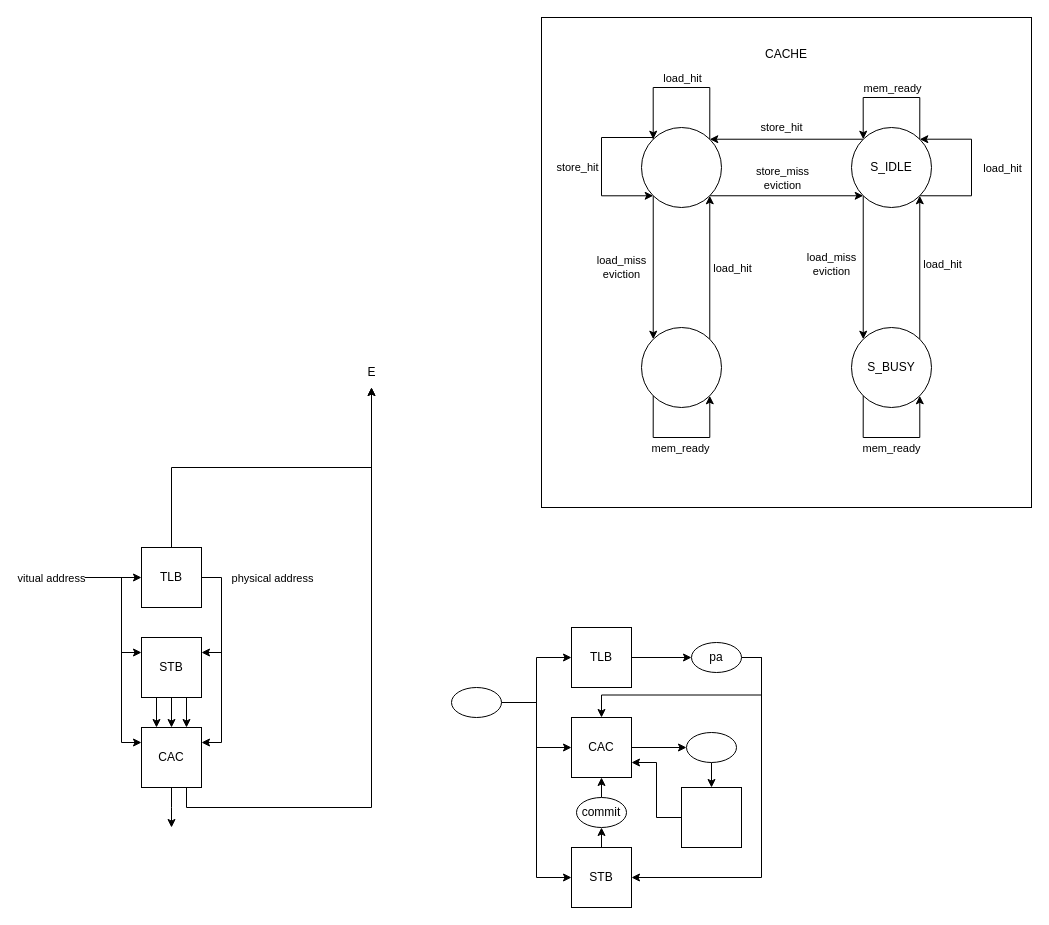
The diagram is 1049 pixels wide and 925 high, and some of its shapes have lost their labels. Each missing label, with the box of its shape:
IDLE: (640, 126, 722, 208)
L_BUSY: (640, 326, 722, 408)
MEM: (680, 786, 742, 848)
miss: (686, 732, 736, 762)
va: (450, 686, 502, 718)
